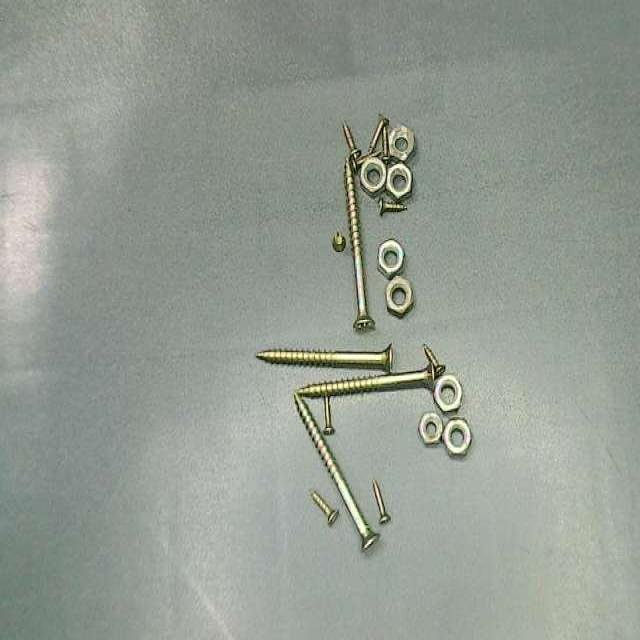Parafuso: (294, 394, 378, 550), (344, 159, 374, 330), (297, 366, 434, 397), (256, 344, 391, 373), (311, 491, 337, 525), (342, 122, 361, 167), (366, 115, 387, 154), (423, 344, 445, 378), (373, 480, 390, 523), (378, 199, 406, 215), (323, 398, 334, 435), (382, 118, 389, 162), (332, 232, 345, 251)
Porca: (360, 156, 386, 197), (386, 276, 412, 317), (443, 419, 471, 457), (378, 239, 404, 278), (386, 163, 412, 201), (434, 375, 461, 411), (389, 126, 414, 162), (418, 412, 442, 445)
